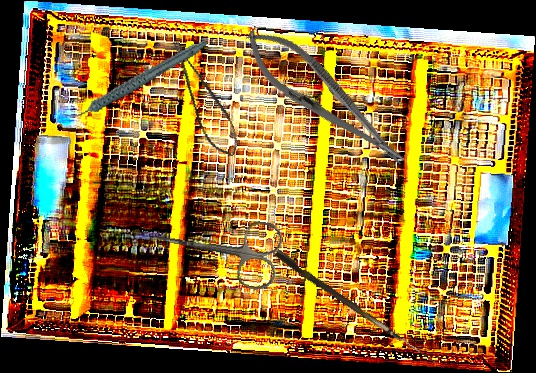Handpiece: (55, 38, 218, 121)
Hook Surgical: (272, 249, 441, 364)
Iris Scissors: (147, 202, 285, 293)
Micro Scissor: (169, 32, 244, 163)
Needle Holder: (232, 15, 418, 182)
